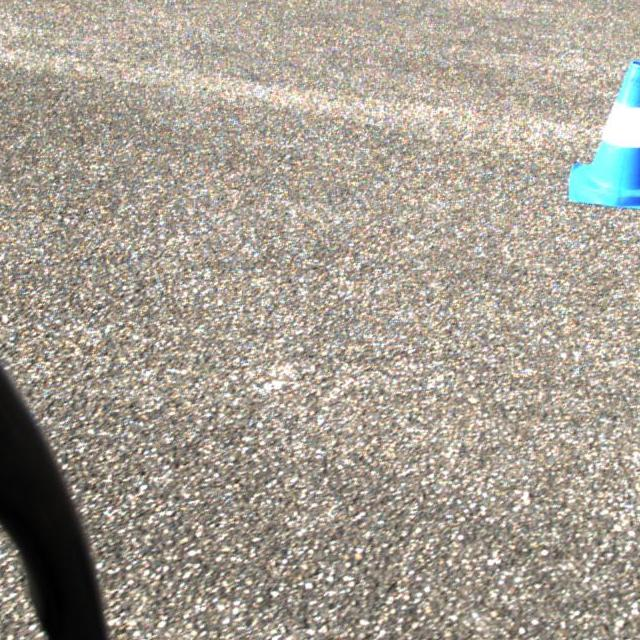Safety Cone: (569, 60, 640, 211)
